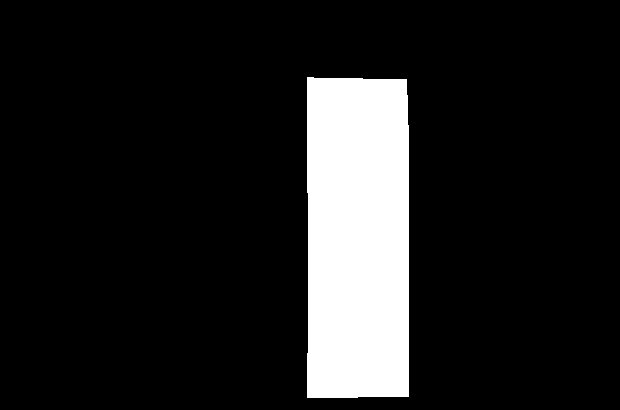type3s: (300, 73, 414, 400)
